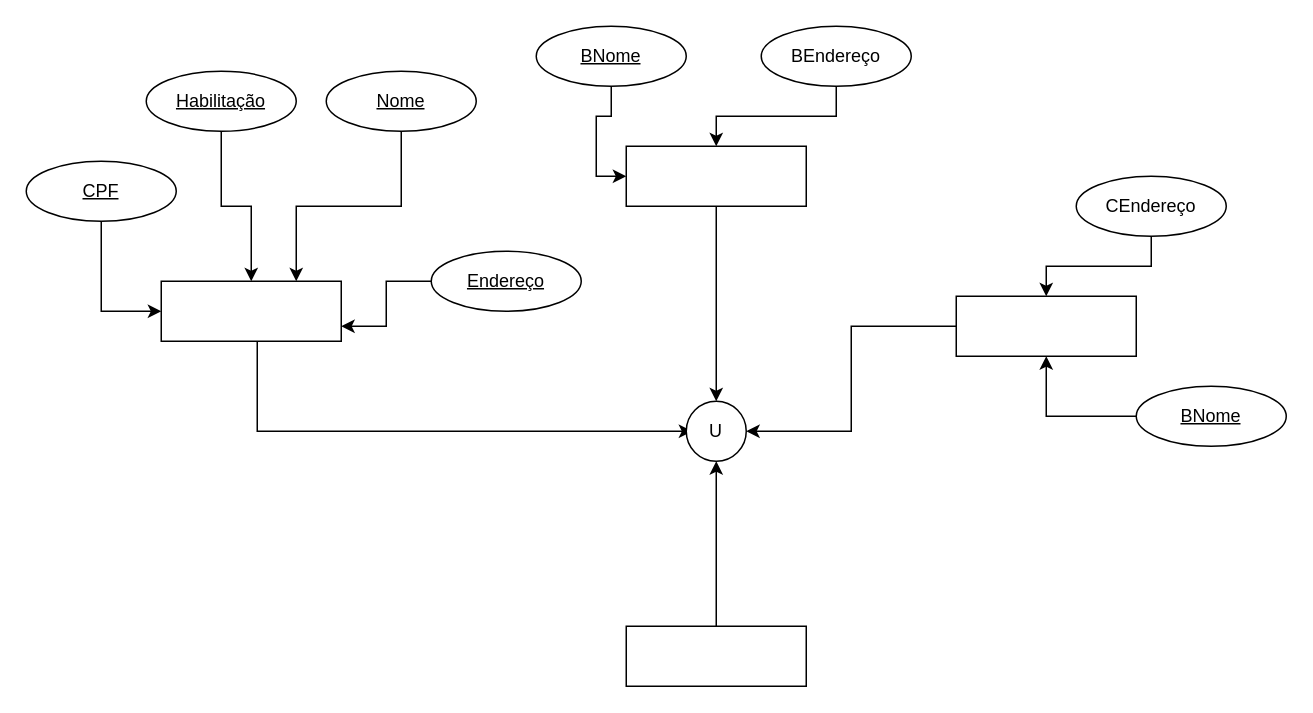
Image size: 1313x713. Some labels were removed from this diagram. The shapes that lost their labels are listed below. From the top down, each one's box as (x1, y1, x2, y2) in pixels, then its label:
(625, 145, 806, 206): Banco
(160, 280, 341, 341): Pessoa
(955, 295, 1136, 356): Companhia
(625, 625, 806, 686): Owner
